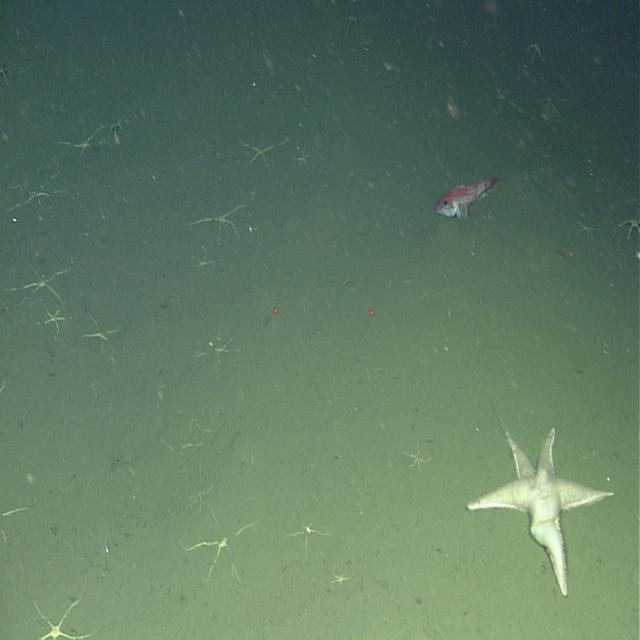Brittle Star: (180, 496, 275, 594), (11, 255, 73, 316), (192, 189, 253, 248), (239, 124, 287, 180), (401, 429, 438, 482)
Not Brittle Star: (464, 418, 616, 600), (433, 169, 504, 227)
